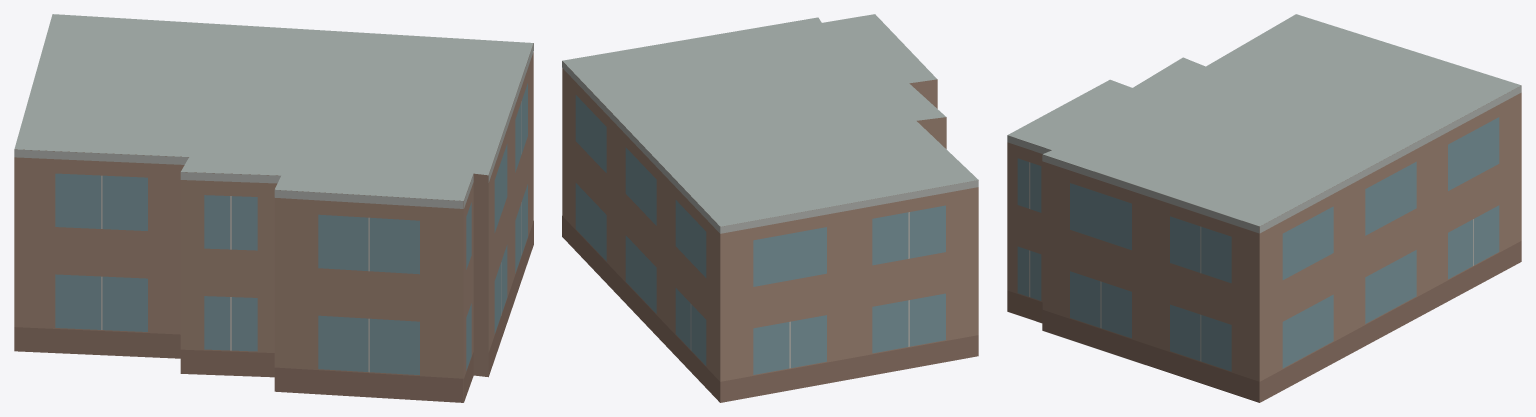
File: survey-upis-32862912.glb
The picture shows the model from 3 angles, left to right: view 1: azimuth 30°, elevation 25°; view 2: azimuth 150°, elevation 25°; view 3: azimuth 270°, elevation 25°; orthographic projection. The views are drawn at different scales.
Visible parts, largest first — view 1: survey-upis-32862912.tmp; view 2: survey-upis-32862912.tmp; view 3: survey-upis-32862912.tmp.
Part boxes in pixels (x1=…): survey-upis-32862912.tmp: x1=14, y1=14, x2=533, y2=402; survey-upis-32862912.tmp: x1=562, y1=14, x2=978, y2=402; survey-upis-32862912.tmp: x1=1007, y1=14, x2=1521, y2=402.
Bounding box in the file's own units: 15.77 × 6.1 × 16.13.
